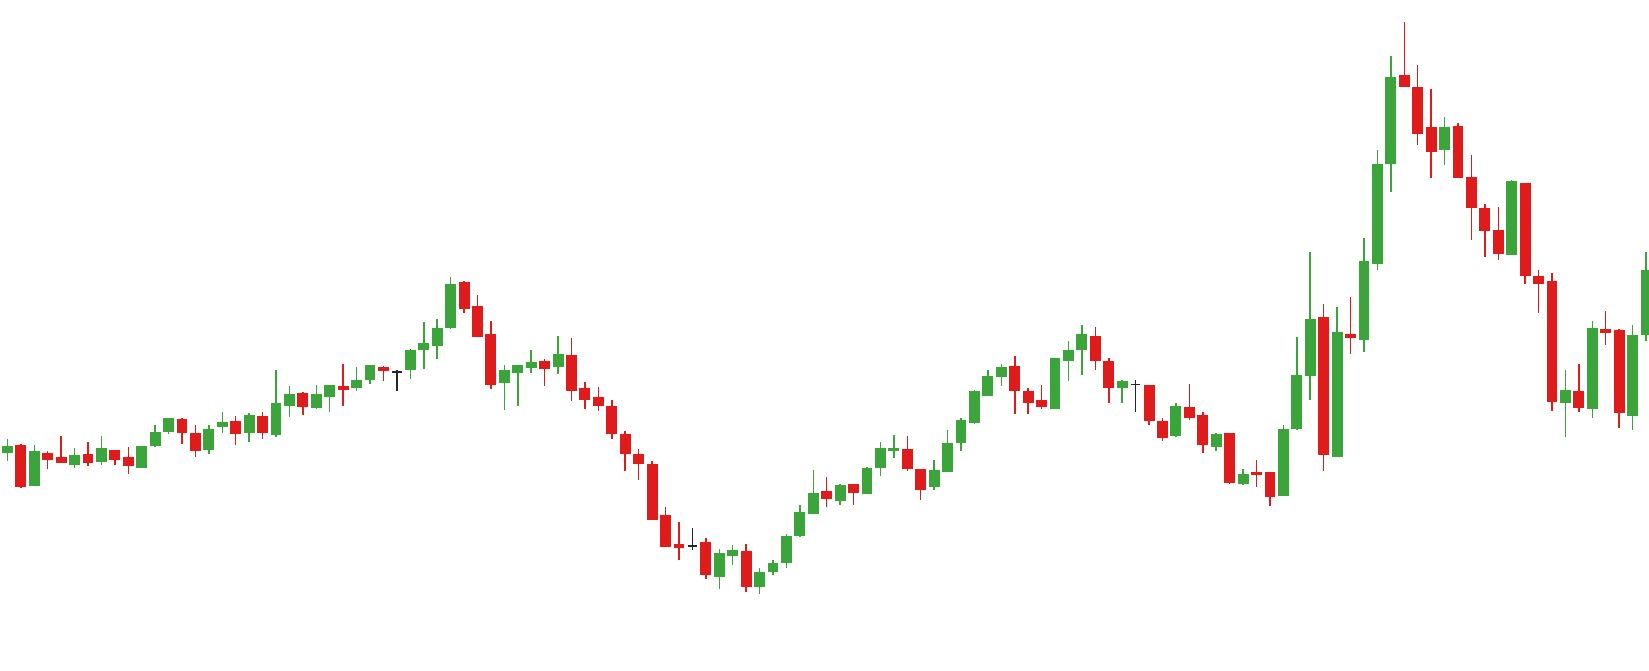sell: (1010, 322, 1102, 391)
